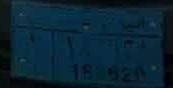city: (13, 30, 50, 82)
number: (52, 33, 163, 87)
text: (12, 2, 160, 37)
